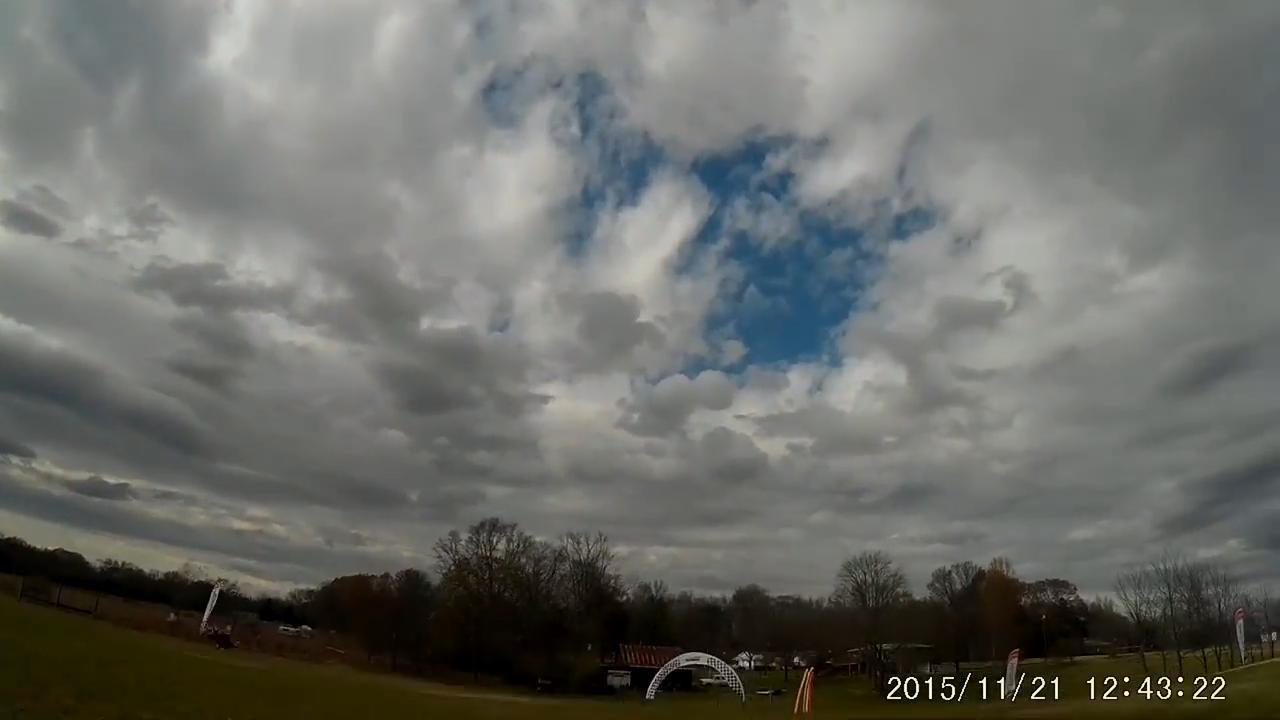gate: (641, 651, 749, 708)
